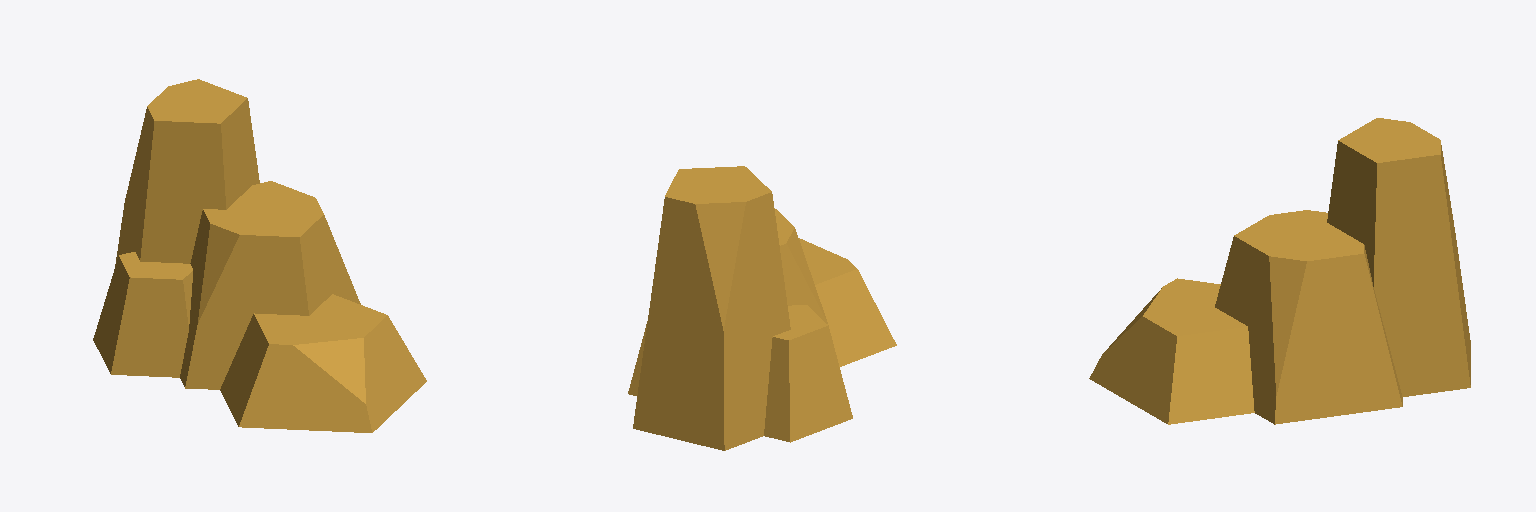
File: rockC7.obj
3 views of the same model, side by side, from view 1: azimuth 30°, elevation 25°; view 2: azimuth 150°, elevation 25°; view 3: azimuth 270°, elevation 25° (orthographic).
Parts seen in each view (by area): view 1: rockC2; view 2: rockC2; view 3: rockC2.
Part boxes in pixels (left/top/right/bottom): rockC2: left=93, top=79, right=426, bottom=432; rockC2: left=628, top=166, right=896, bottom=450; rockC2: left=1089, top=118, right=1470, bottom=424.
Bounding box in the file's own units: 2.19 × 2.04 × 3.13.